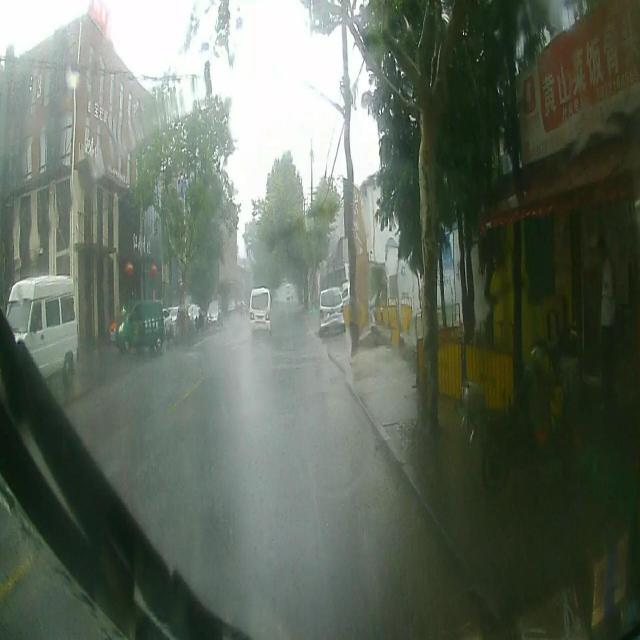car: (0, 276, 78, 382), (114, 296, 164, 348), (318, 285, 345, 332), (250, 285, 272, 332), (206, 298, 224, 326)
